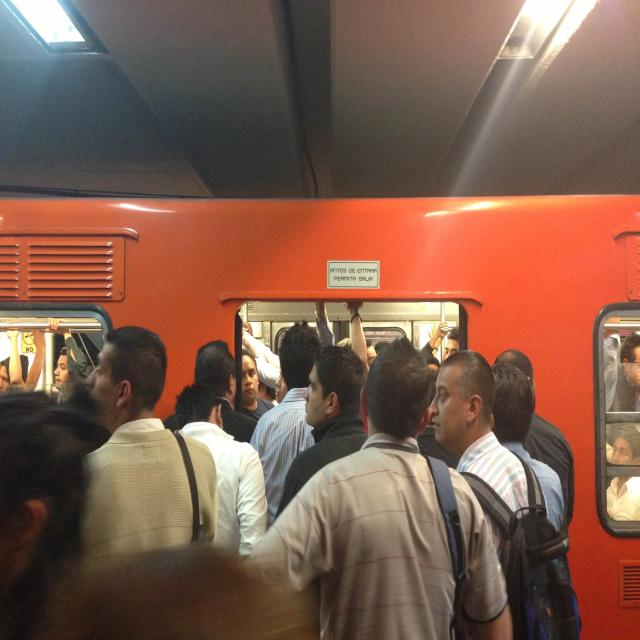body: (249, 334, 513, 640), (72, 323, 220, 568), (428, 349, 550, 560), (0, 386, 92, 640), (92, 544, 314, 640), (273, 342, 370, 526), (172, 379, 270, 561), (248, 322, 326, 531), (493, 349, 576, 544), (490, 363, 566, 534), (162, 339, 261, 443), (234, 324, 289, 449), (310, 296, 392, 372), (600, 314, 640, 424), (416, 367, 456, 470), (45, 315, 89, 405), (606, 428, 640, 520), (1, 316, 32, 396), (416, 318, 464, 362), (24, 330, 47, 387)
